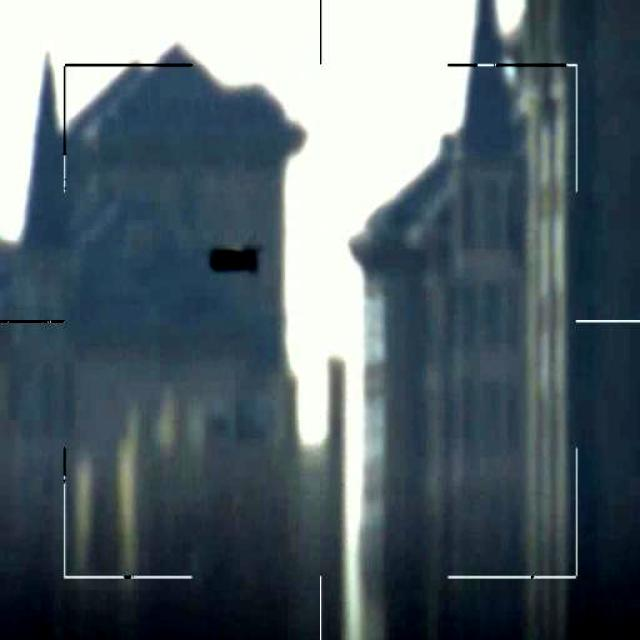bird: (204, 241, 262, 280)
